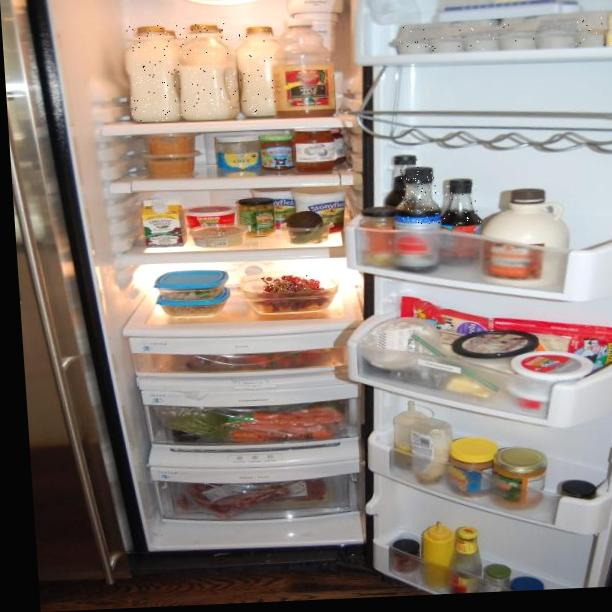eggs: (396, 17, 606, 55)
milk: (175, 23, 239, 119), (126, 25, 181, 122), (236, 27, 277, 116)
red grapes: (261, 275, 320, 293)
sauce: (399, 166, 441, 225), (441, 178, 482, 233)
